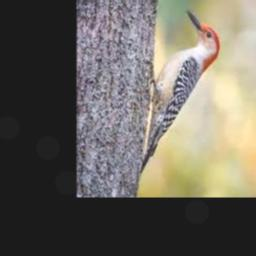Woodpecker: (139, 9, 220, 175)
